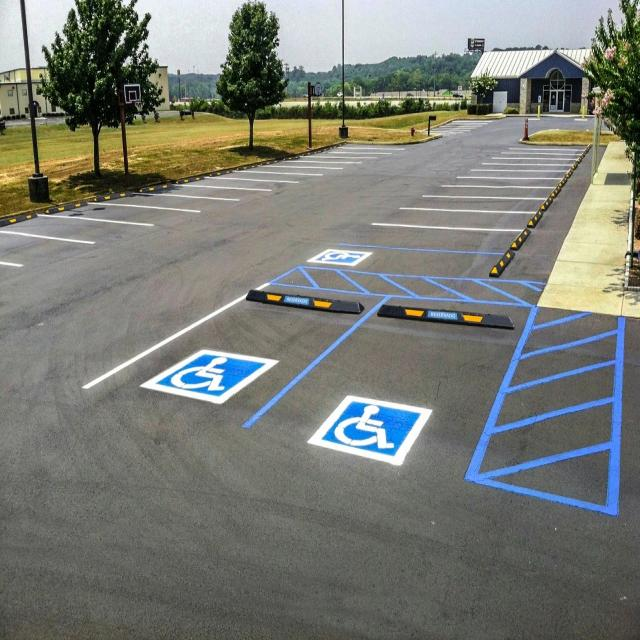discapacitados: (338, 320, 462, 482), (310, 240, 500, 306), (146, 330, 276, 423)
libre: (365, 136, 584, 229), (135, 142, 339, 241), (16, 180, 120, 310)
